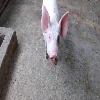heo: (38, 2, 70, 66)
